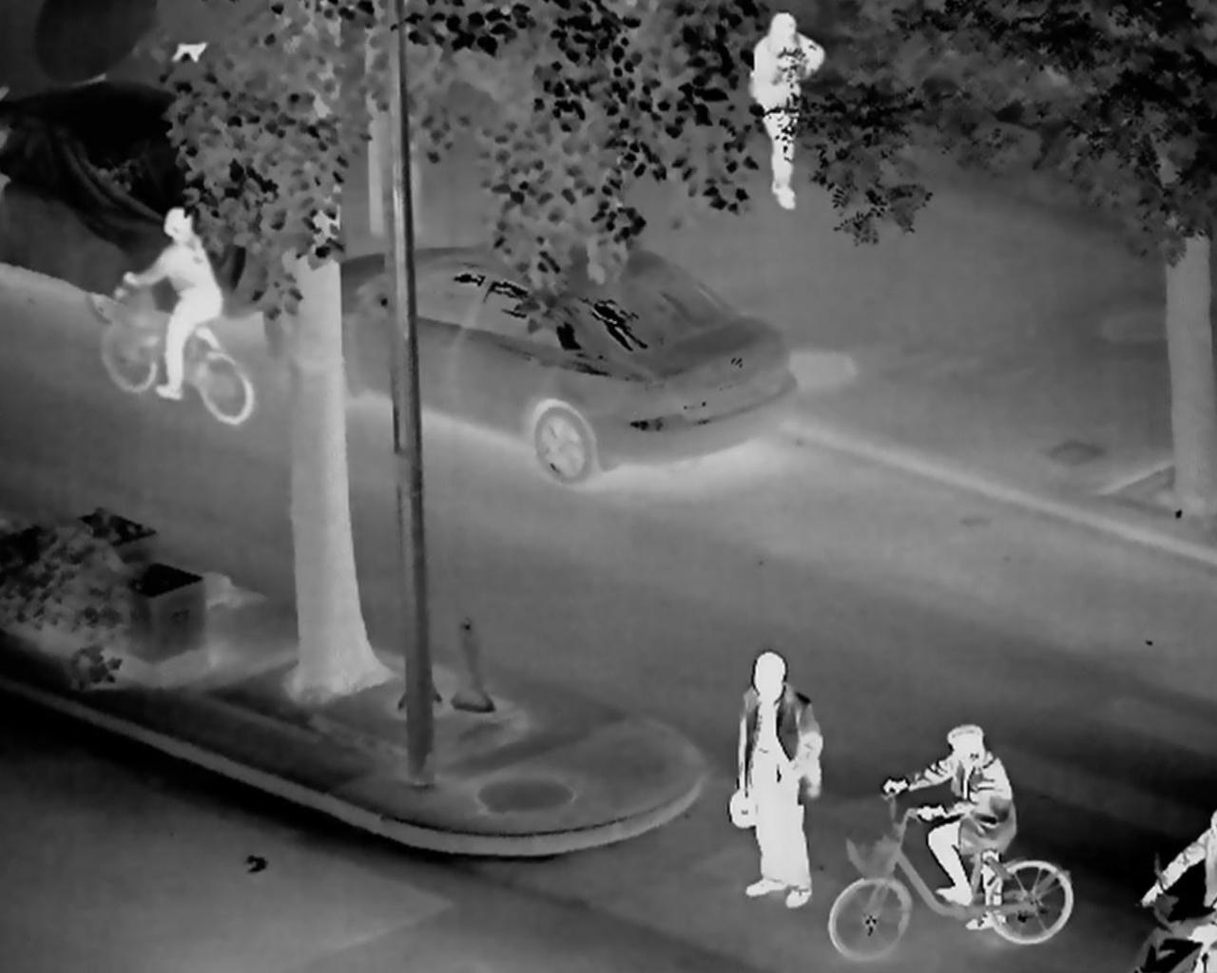person: (883, 725, 1015, 931), (727, 650, 823, 909), (115, 202, 224, 398), (746, 11, 831, 210), (1142, 805, 1217, 944)
